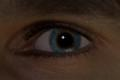eye: (50, 28, 82, 53)
